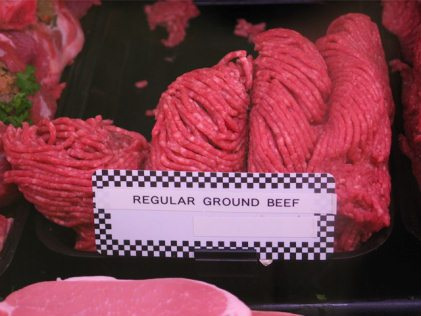ground_beef: (157, 25, 379, 162), (19, 106, 190, 225), (144, 4, 197, 53)
